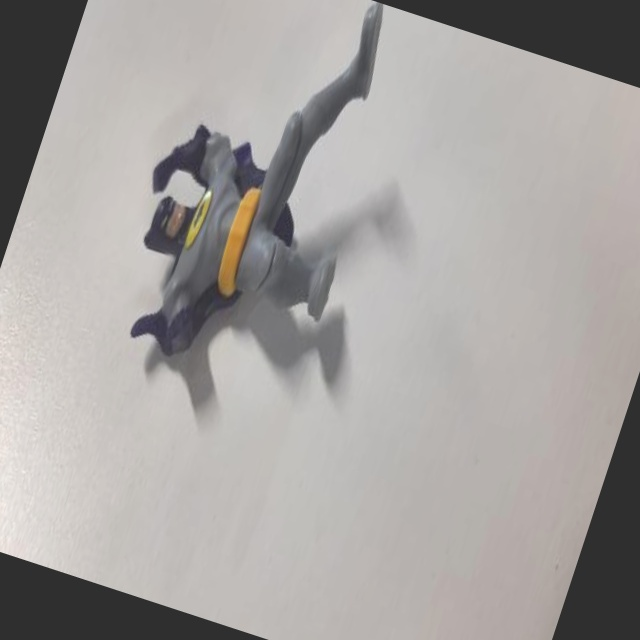Batman: (96, 0, 428, 417)
